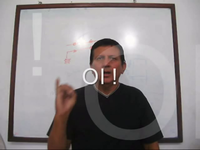oi: (51, 77, 80, 118)
